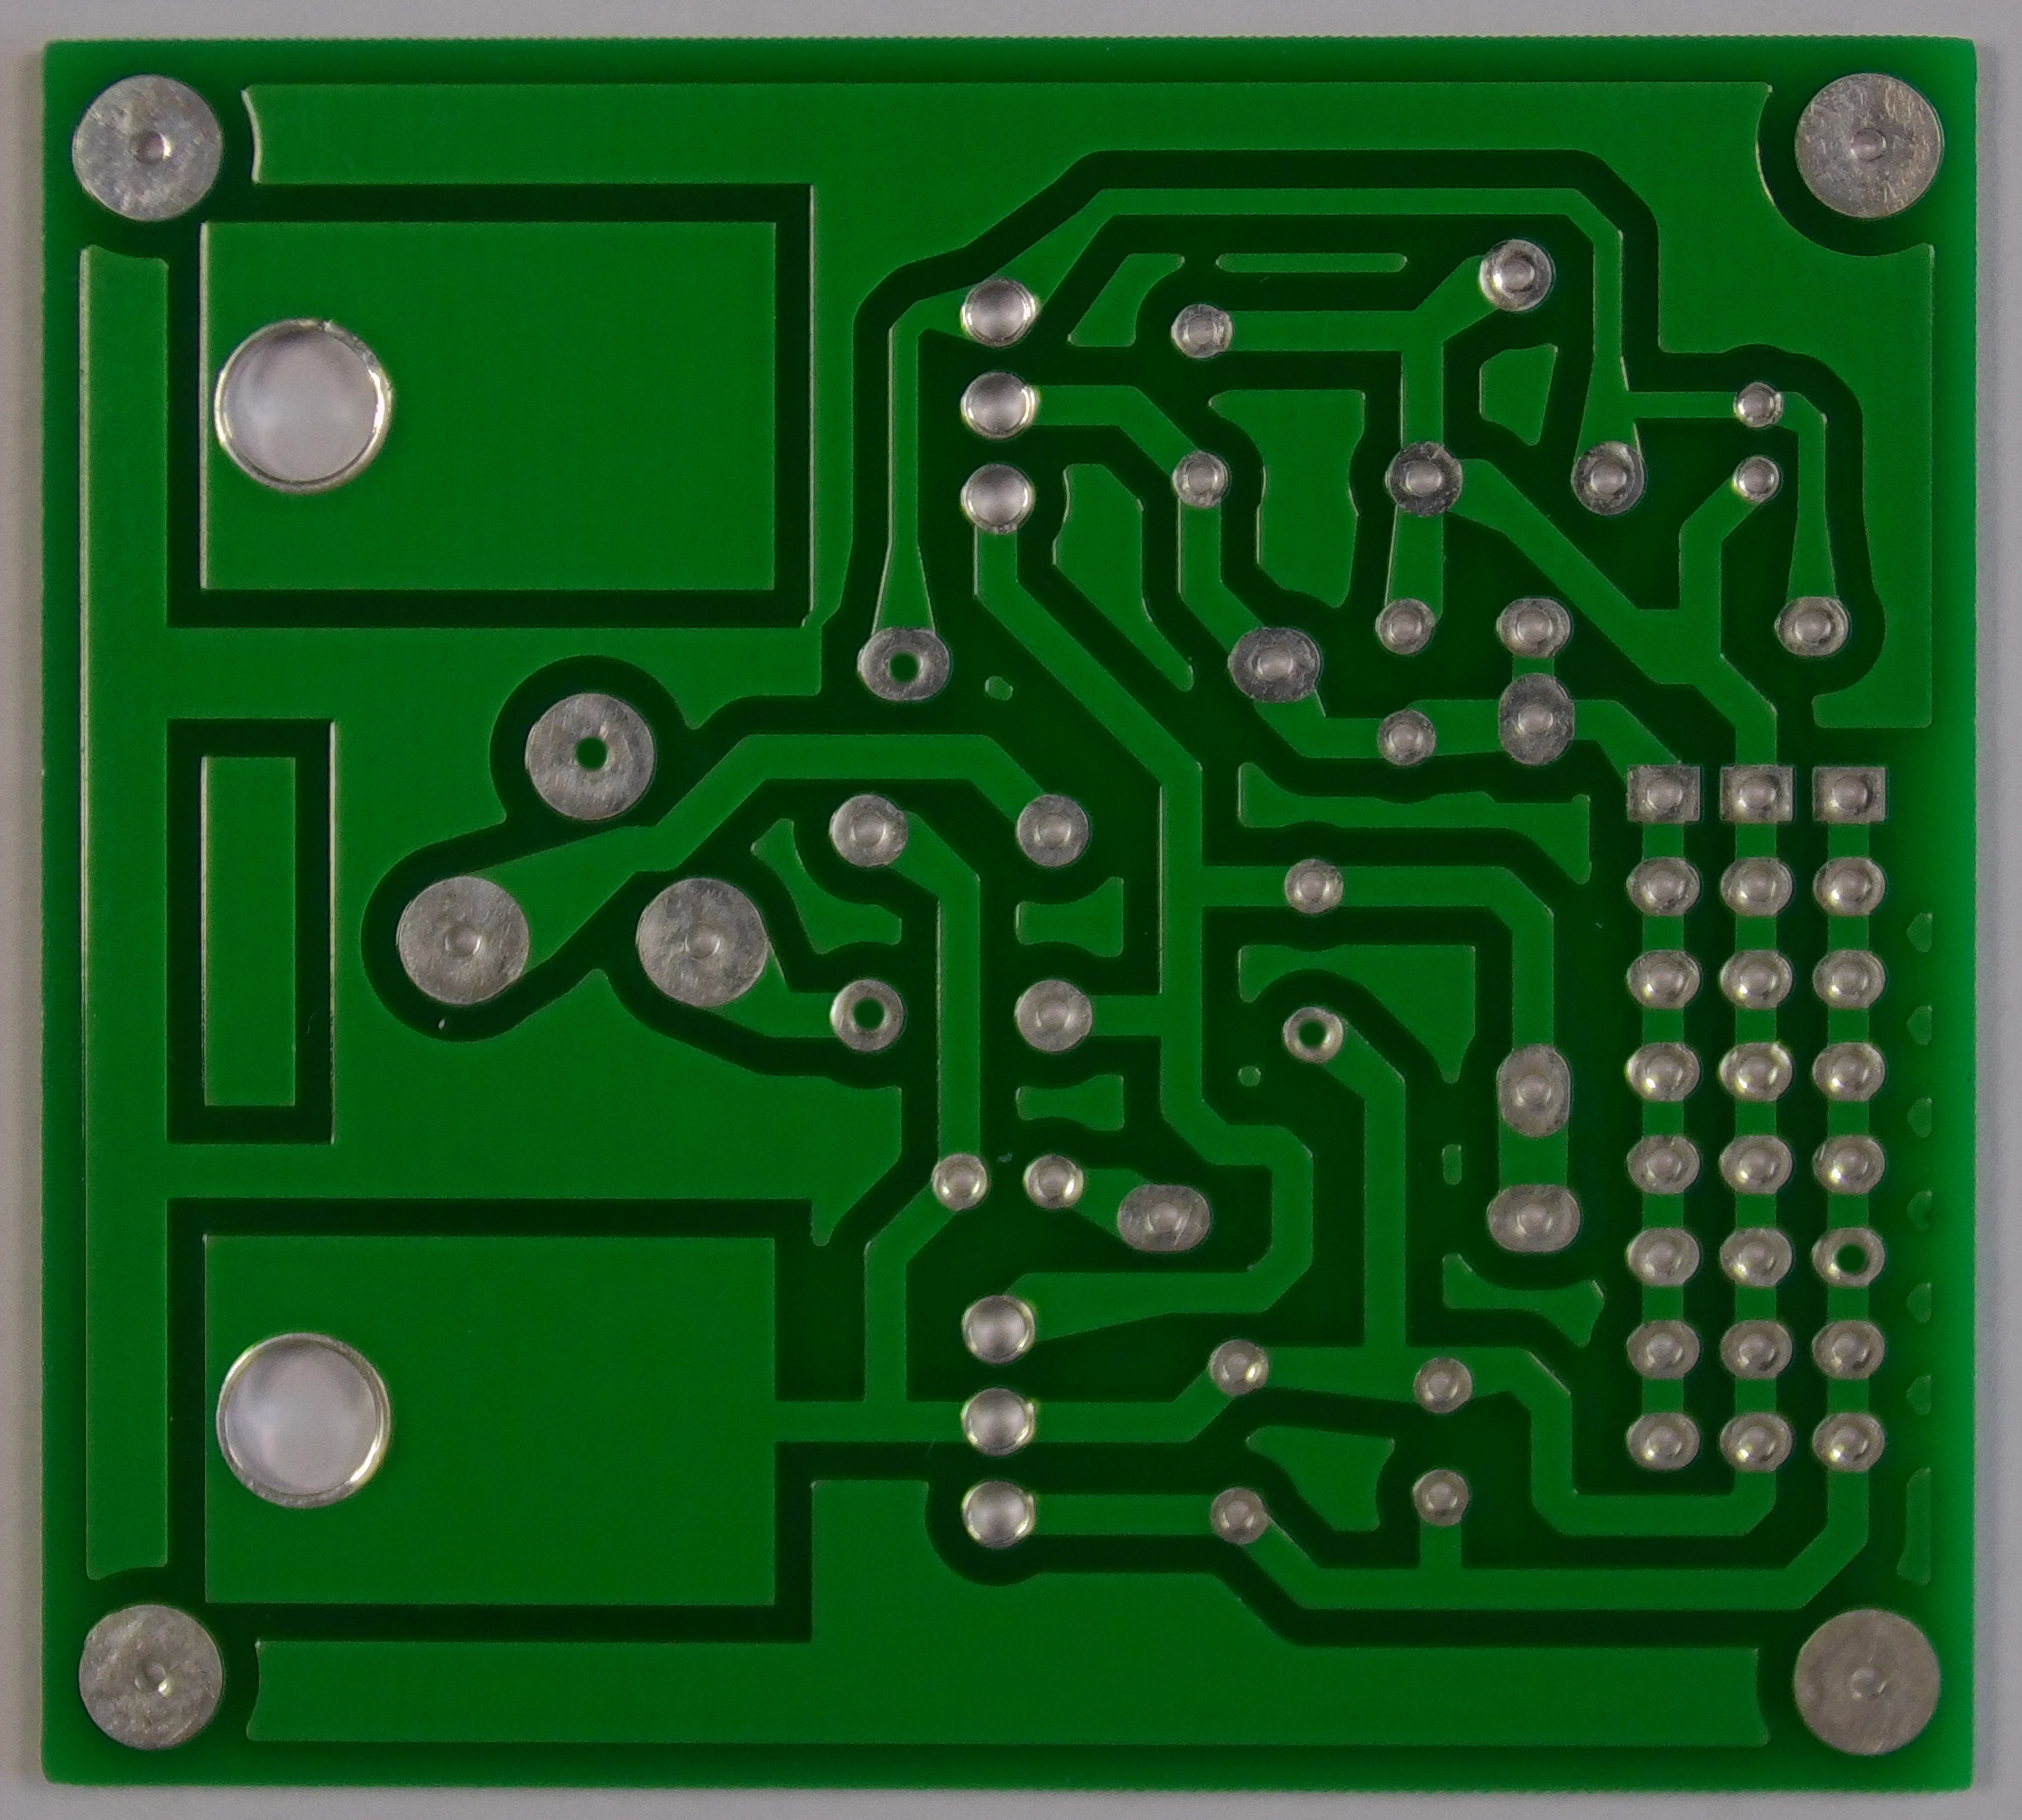missing_hole: (531, 707, 647, 805), (853, 625, 950, 704), (820, 980, 905, 1051), (1818, 1220, 1882, 1292), (1281, 1005, 1346, 1060)
